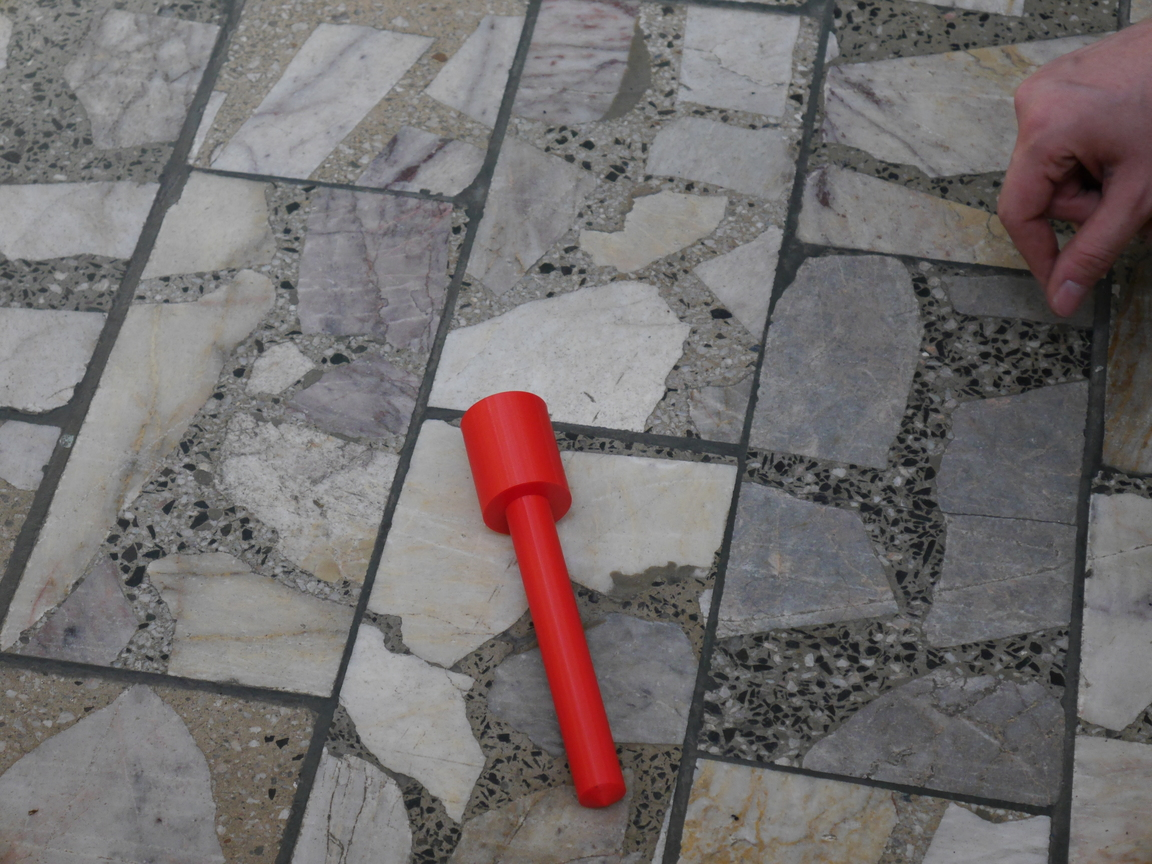cargo_g: (461, 391, 628, 812)
